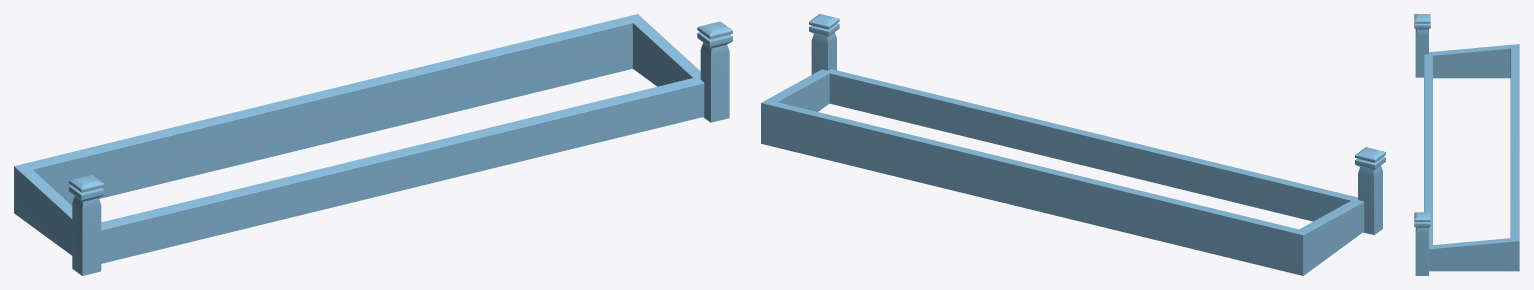
File: barrier_0.glb
The picture shows the model from 3 angles, left to right: view 1: azimuth 30°, elevation 25°; view 2: azimuth 150°, elevation 25°; view 3: azimuth 270°, elevation 25°; orthographic projection. The views are drawn at different scales.
Visible parts, largest first — view 1: front_barrier; view 2: front_barrier; view 3: front_barrier.
Boxes of the visible parts, x1,y1,x2,y2 form: front_barrier: (14,14,732,275); front_barrier: (761,14,1385,275); front_barrier: (1414,14,1519,275).
Size of the model in its own units: 10.86 by 1.44 by 2.35.
